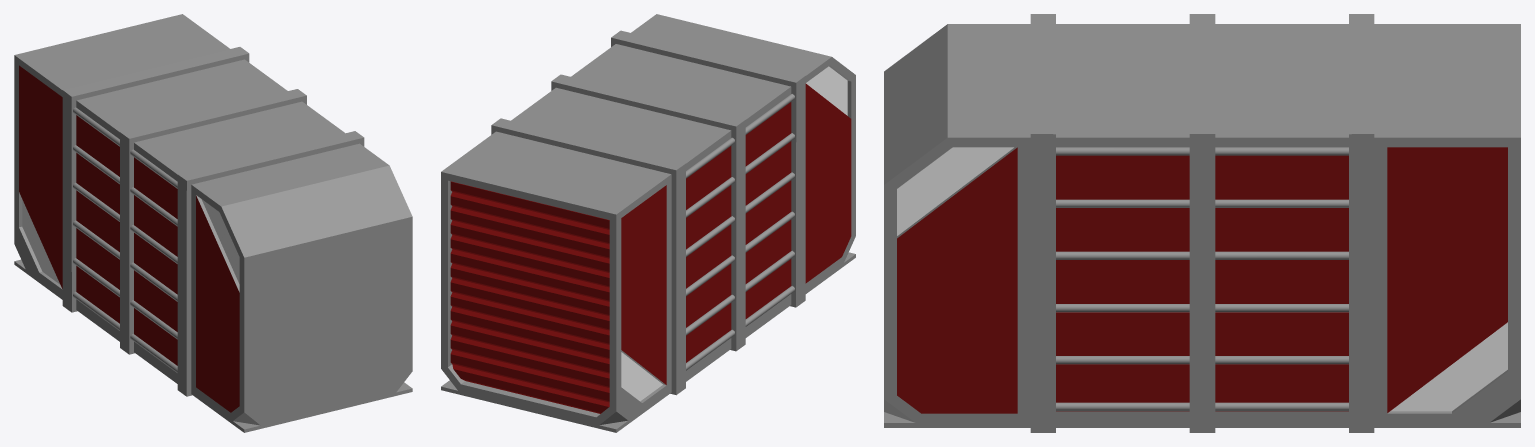
The model's file is Container1.FBX.
The picture shows the model from 3 angles, left to right: view 1: azimuth 30°, elevation 25°; view 2: azimuth 150°, elevation 25°; view 3: azimuth 270°, elevation 25°; orthographic projection. The views are drawn at different scales.
Parts seen in each view (by area): view 1: Container1; view 2: Container1; view 3: Container1.
Boxes of the visible parts, x1=… form: Container1: x1=14, y1=14, x2=412, y2=432; Container1: x1=441, y1=14, x2=855, y2=432; Container1: x1=884, y1=14, x2=1520, y2=432.
Bounding box in the file's own units: 263 × 305 × 588.
